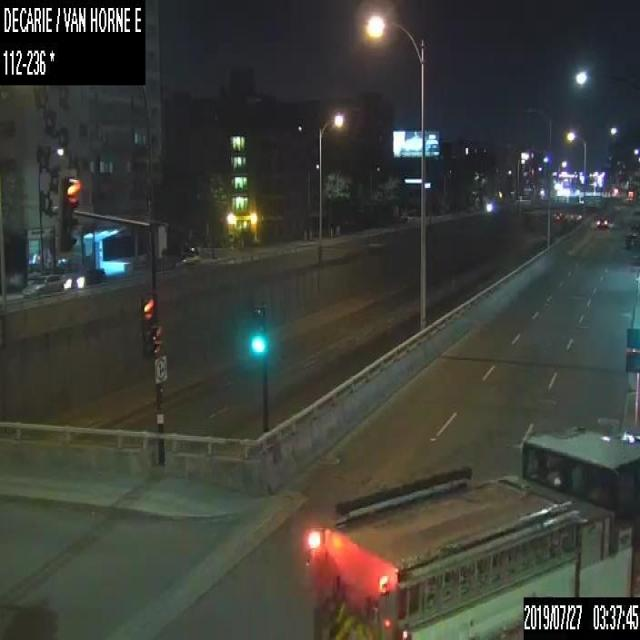vehicle: (309, 424, 639, 639), (522, 594, 639, 638), (21, 272, 63, 298), (65, 268, 105, 289), (173, 251, 201, 265), (624, 232, 639, 248), (595, 213, 608, 228), (552, 211, 562, 221)
